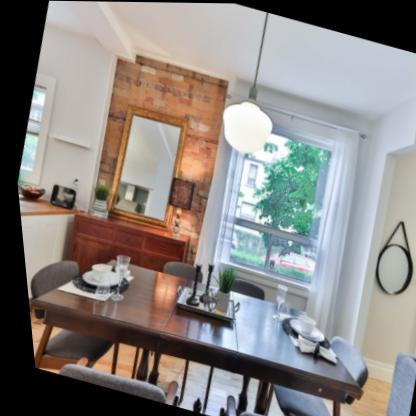Dining Table: (16, 209, 387, 416)
Wooden floor: (172, 90, 395, 338), (331, 376, 383, 416)
